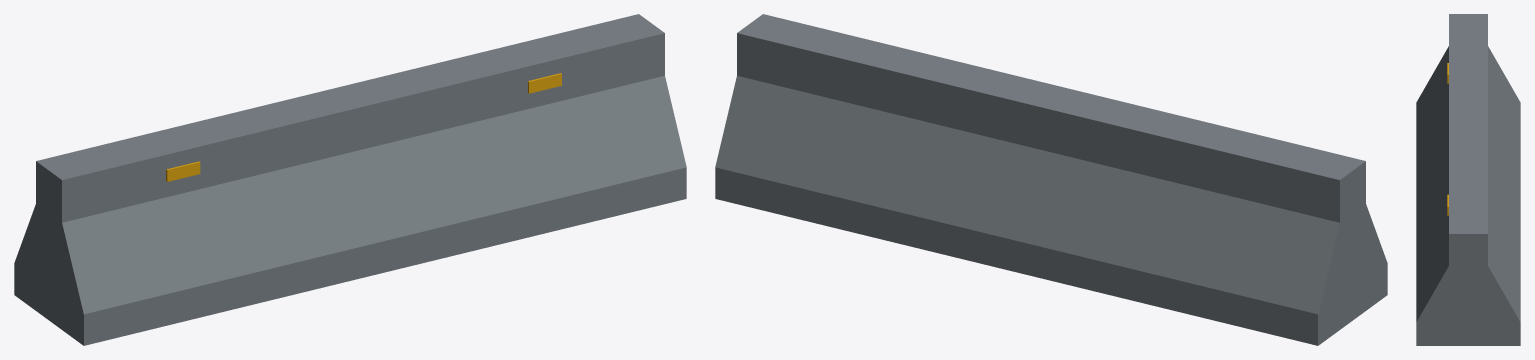
Rendered from JerseyBarrierWide.fbx.
3 views of the same model, side by side, from view 1: azimuth 30°, elevation 25°; view 2: azimuth 150°, elevation 25°; view 3: azimuth 270°, elevation 25° (orthographic). The views are drawn at different scales.
Visible parts, largest first — view 1: JerseyBarrierWide; view 2: JerseyBarrierWide; view 3: JerseyBarrierWide.
Part boxes in pixels (bbox=[...]): JerseyBarrierWide: bbox=[14, 14, 686, 345]; JerseyBarrierWide: bbox=[715, 14, 1387, 345]; JerseyBarrierWide: bbox=[1416, 14, 1520, 345].
Size of the model in its own units: 400 by 95 by 80.
1 material, 1 textured.
